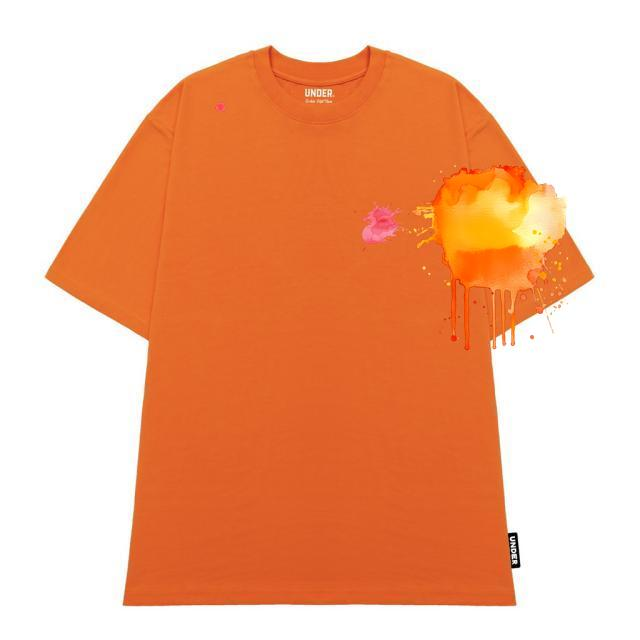stain: (426, 171, 570, 350), (346, 196, 403, 253), (196, 95, 235, 120)
